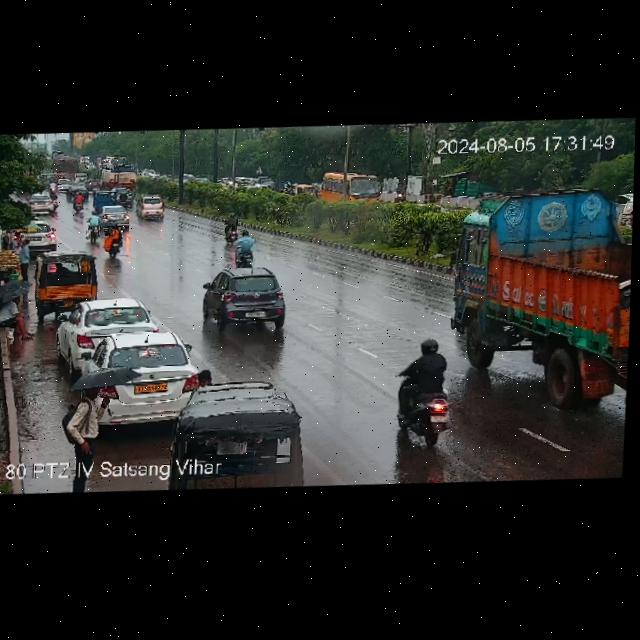bus: (319, 170, 388, 207)
car: (177, 379, 312, 484), (73, 333, 201, 418), (58, 297, 158, 354), (200, 266, 285, 332), (37, 250, 101, 305), (10, 217, 59, 252), (135, 194, 167, 222), (101, 203, 131, 227), (30, 188, 52, 215), (89, 191, 115, 212), (289, 182, 321, 198), (65, 185, 89, 202), (113, 185, 133, 204), (57, 176, 71, 191), (70, 171, 86, 183), (87, 178, 101, 191)
motorcycle: (389, 337, 451, 445), (228, 232, 257, 268), (104, 225, 129, 257), (221, 213, 246, 243), (81, 211, 104, 239), (73, 192, 83, 213), (50, 188, 58, 210), (49, 180, 57, 192)
person: (59, 377, 130, 456), (0, 296, 33, 340), (13, 237, 35, 275)
truck: (450, 179, 634, 392), (100, 163, 134, 189), (52, 152, 81, 174)
